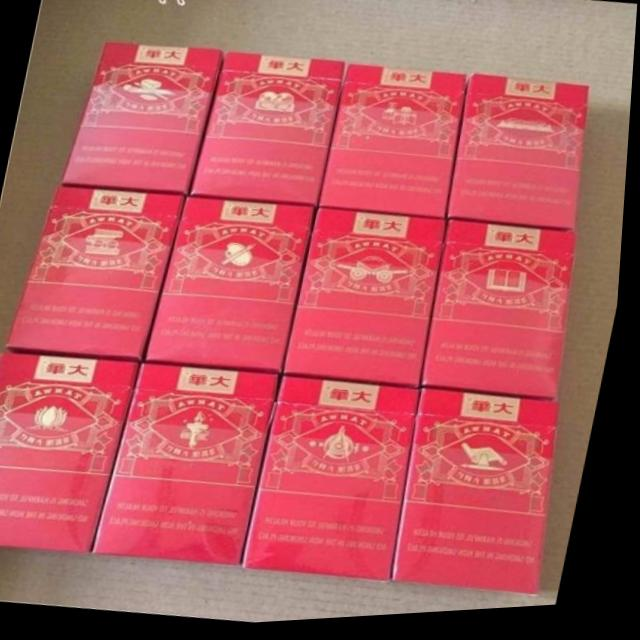box: (97, 365, 286, 570), (250, 379, 427, 589), (399, 392, 568, 602), (10, 185, 188, 363), (147, 198, 320, 379), (289, 211, 453, 394), (0, 351, 146, 554), (426, 226, 581, 409), (61, 41, 226, 197), (189, 54, 347, 211), (322, 68, 470, 227), (451, 79, 591, 238)
